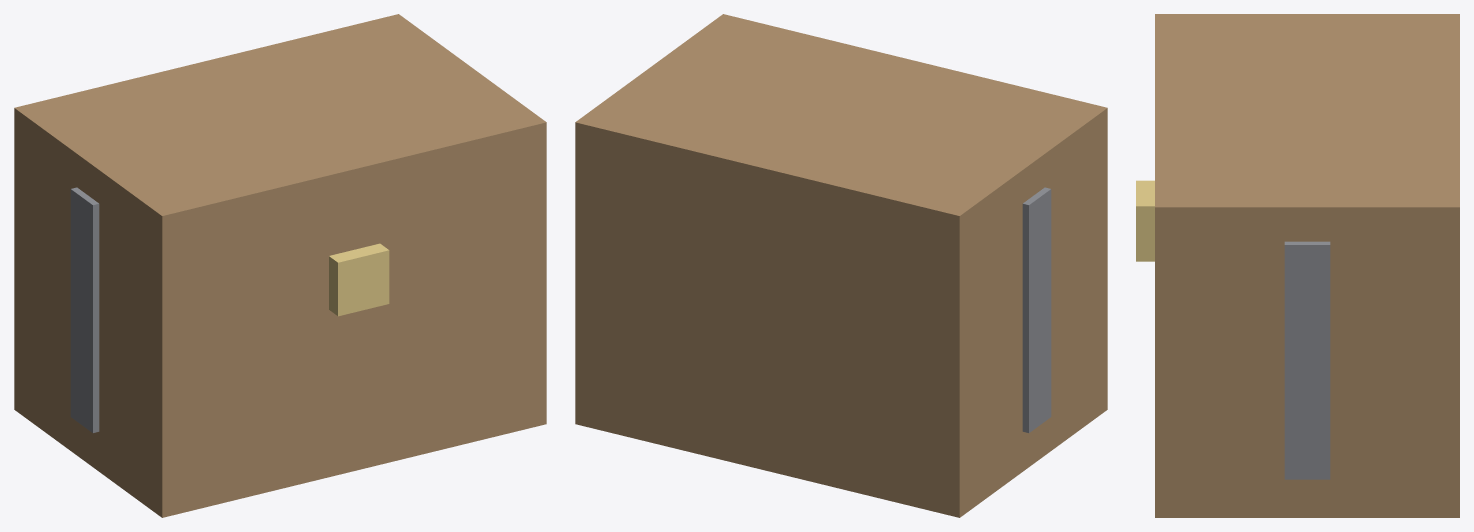
File: chest.glb
3 renders of one model, left to right at view 1: azimuth 30°, elevation 25°; view 2: azimuth 150°, elevation 25°; view 3: azimuth 270°, elevation 25°, orthographic. The views are drawn at different scales.
Parts seen in each view (by area): view 1: chest; view 2: chest; view 3: chest.
Boxes of the visible parts, bbox=[...] form: chest: bbox=[14, 14, 546, 517]; chest: bbox=[575, 14, 1107, 517]; chest: bbox=[1136, 14, 1459, 517].
Size of the model in its own units: 0.62 by 0.45 by 0.425.
